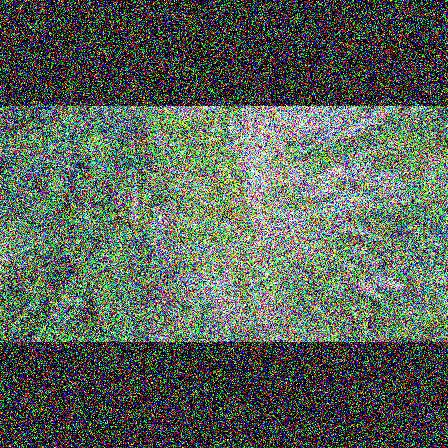Dead: (322, 115, 385, 150), (293, 113, 335, 152), (300, 125, 340, 154), (282, 112, 313, 147), (325, 161, 371, 183), (313, 195, 371, 210), (355, 172, 406, 188), (350, 278, 385, 301), (364, 271, 407, 289), (313, 163, 345, 183), (293, 187, 340, 196), (318, 228, 381, 234)
